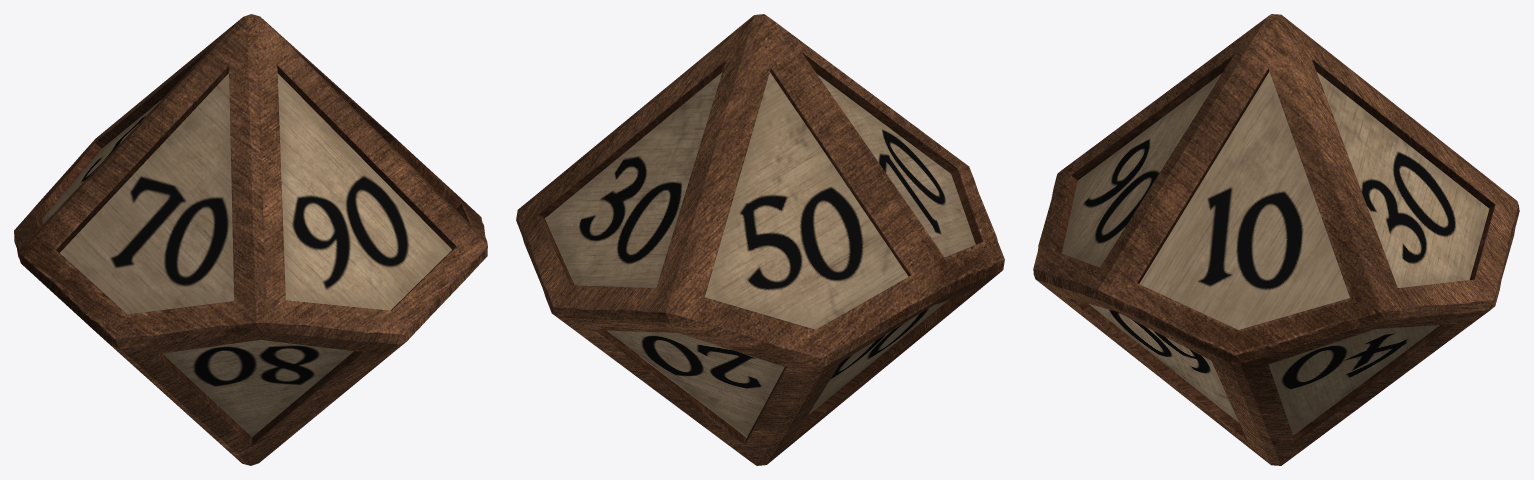
The picture shows the model from 3 angles, left to right: view 1: azimuth 30°, elevation 25°; view 2: azimuth 150°, elevation 25°; view 3: azimuth 270°, elevation 25°; orthographic projection.
Visible parts, largest first — view 1: pPlatonic9; view 2: pPlatonic9; view 3: pPlatonic9.
Part boxes in pixels (box(x1,y1,x2,y2)): pPlatonic9: box(14, 14, 487, 465); pPlatonic9: box(516, 14, 1004, 465); pPlatonic9: box(1033, 14, 1519, 465).
Size of the model in its own units: 1.67 by 1.69 by 1.67.
